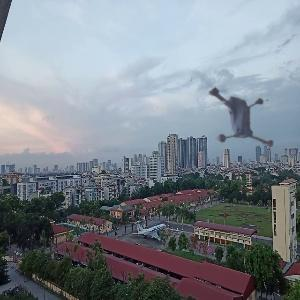drone: (184, 69, 276, 161)
